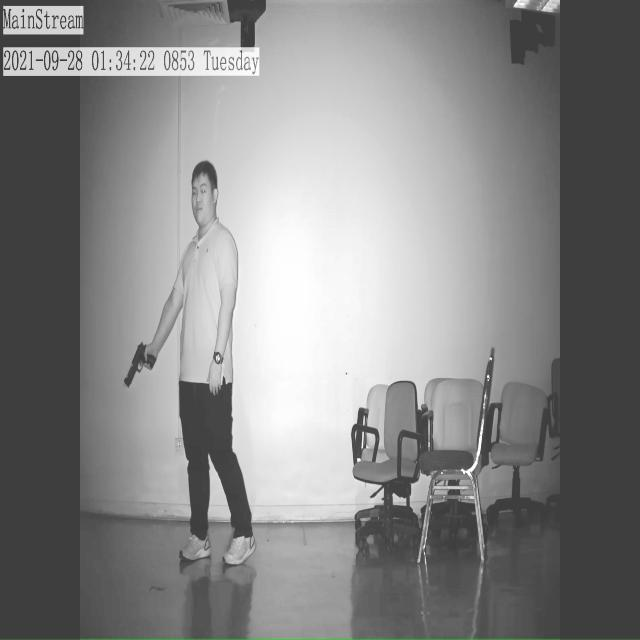Gun: (116, 338, 166, 392)
